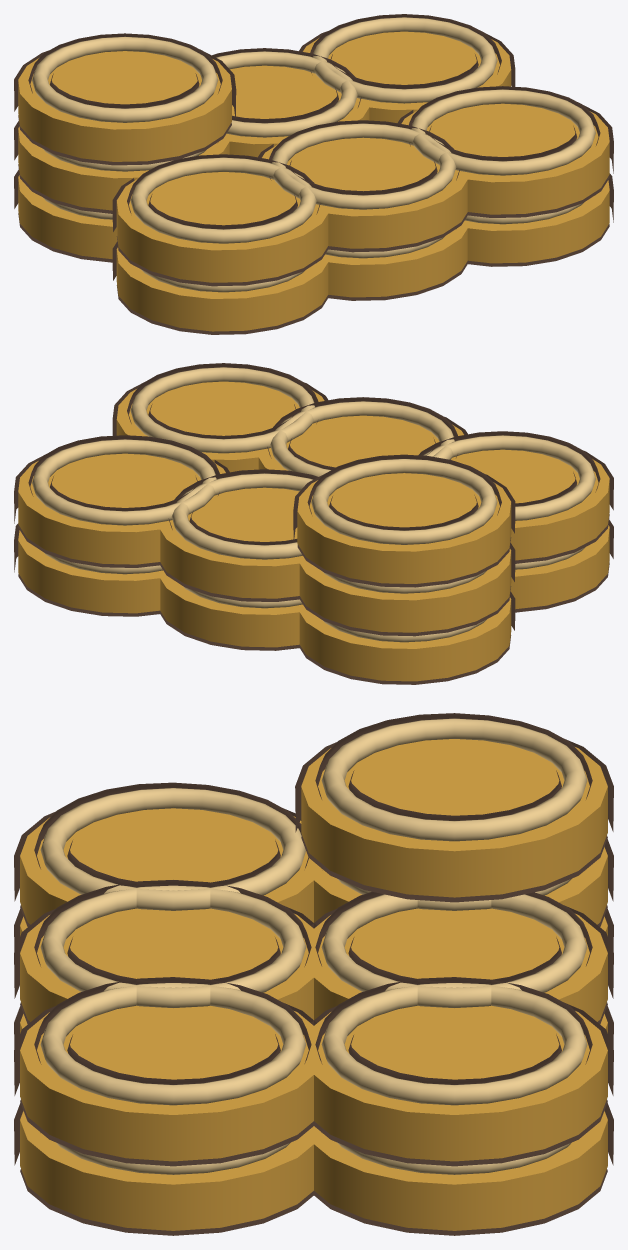
The model's file is prop_205.glb.
3 views of the same model, one above another, from view 1: azimuth 30°, elevation 25°; view 2: azimuth 150°, elevation 25°; view 3: azimuth 270°, elevation 25° (orthographic). The views are drawn at different scales.
Parts seen in each view (by area): view 1: prop_205; view 2: prop_205; view 3: prop_205.
Part boxes in pixels (bbox=[...]): prop_205: bbox=[14, 14, 613, 334]; prop_205: bbox=[14, 363, 613, 684]; prop_205: bbox=[14, 713, 613, 1235].
Size of the model in its own units: 0.83 by 0.2496 by 0.6394.
